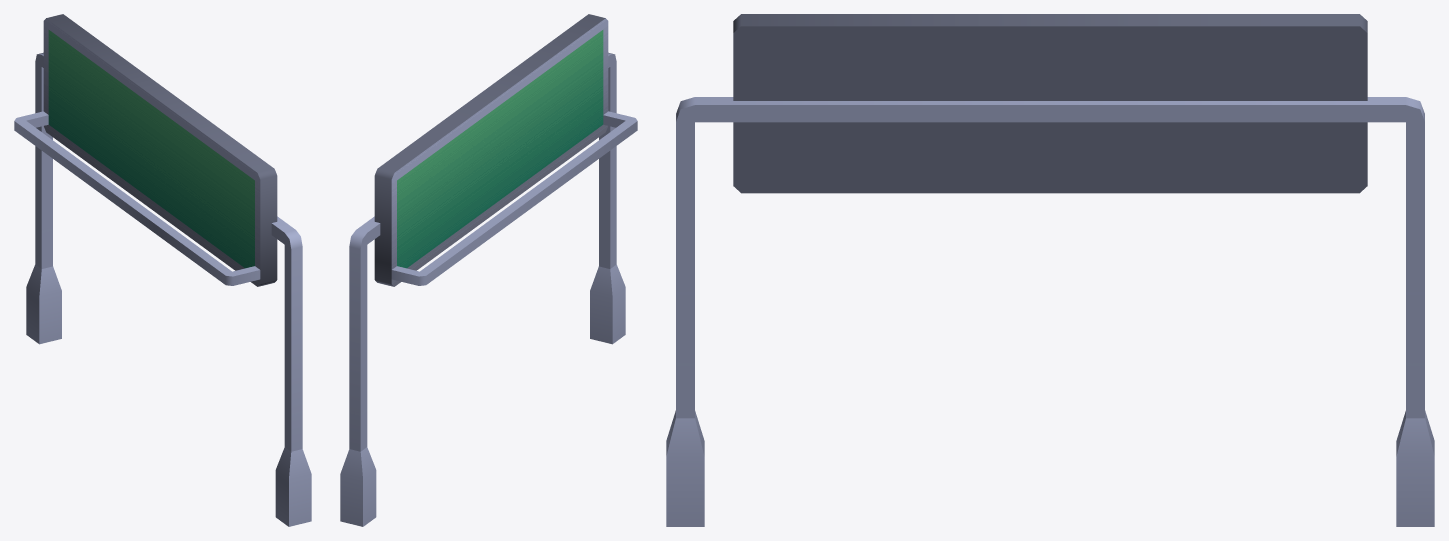
File: sign-highway-wide.gltf
3 renders of one model, left to right at view 1: azimuth 30°, elevation 25°; view 2: azimuth 150°, elevation 25°; view 3: azimuth 270°, elevation 25°, orthographic. The views are drawn at different scales.
Parts seen in each view (by area): view 1: sign-highway-wide; view 2: sign-highway-wide; view 3: sign-highway-wide.
Boxes of the visible parts, x1=… form: sign-highway-wide: x1=14, y1=14, x2=311, y2=526; sign-highway-wide: x1=340, y1=14, x2=637, y2=526; sign-highway-wide: x1=666, y1=14, x2=1434, y2=526.
Bounding box in the file's own units: 0.1324 × 0.7074 × 1.
1 material, 1 textured.
